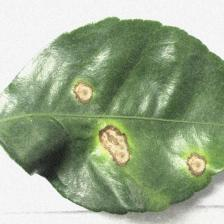canker: (66, 60, 216, 200)
